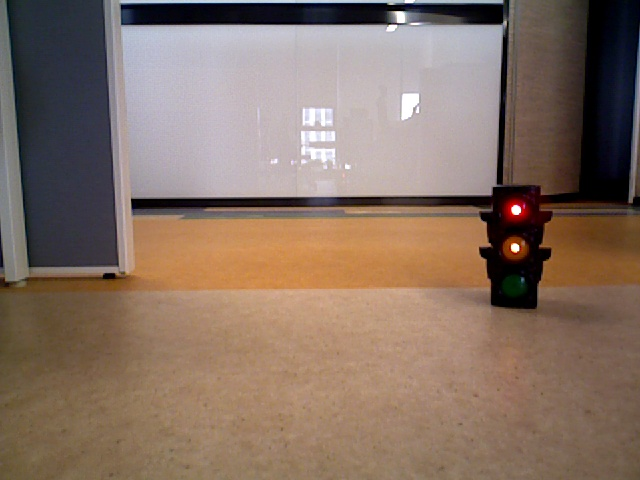red: (495, 189, 533, 304)
